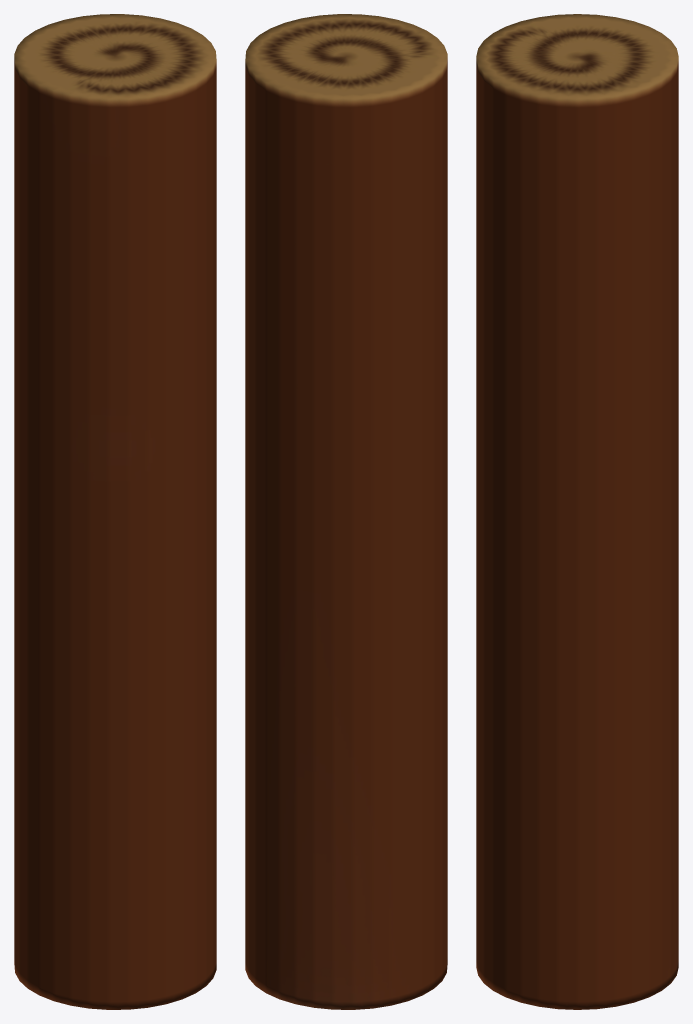
The model's file is platform beach - Trunk.fbx.
3 renders of one model, left to right at view 1: azimuth 30°, elevation 25°; view 2: azimuth 150°, elevation 25°; view 3: azimuth 270°, elevation 25°, orthographic.
Visible parts, largest first — view 1: PM3D_Cylinder3D_1; view 2: PM3D_Cylinder3D_1; view 3: PM3D_Cylinder3D_1.
Boxes of the visible parts, x1,y1,x2,y2 form: PM3D_Cylinder3D_1: (14, 14, 216, 1009); PM3D_Cylinder3D_1: (245, 14, 447, 1009); PM3D_Cylinder3D_1: (476, 14, 678, 1009).
Size of the model in its own units: 0.8066 by 4 by 0.8066.
